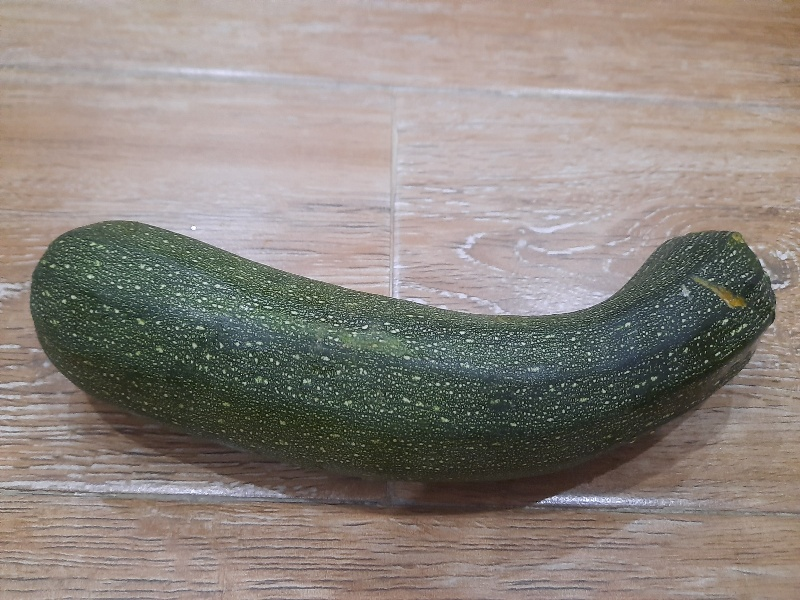vege: (28, 205, 780, 500)
